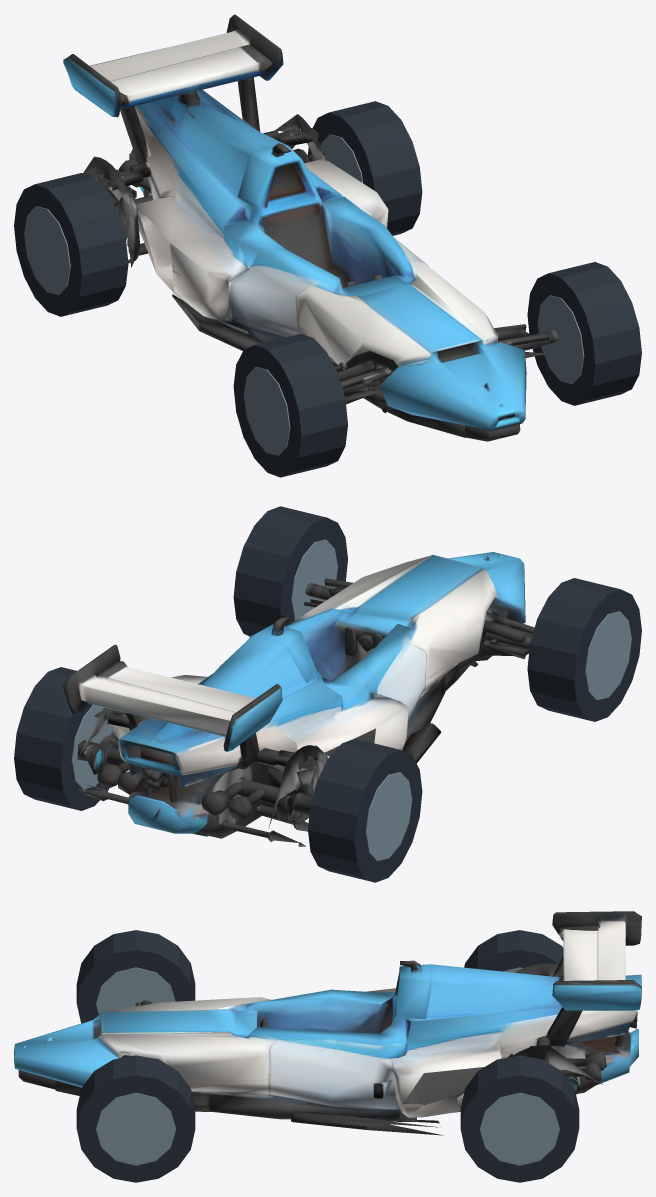
File: car-low.glb
The picture shows the model from 3 angles, top to bottom: view 1: azimuth 30°, elevation 25°; view 2: azimuth 150°, elevation 25°; view 3: azimuth 270°, elevation 25°; orthographic projection. The views are drawn at different scales.
Parts seen in each view (by area): view 1: Car_Body, Wheel_FL, Wheel_RL, Wheel_FR, Wheel_RR; view 2: Car_Body, Wheel_RL, Wheel_FL, Wheel_FR, Wheel_RR; view 3: Car_Body, Wheel_FR, Wheel_RR, Wheel_FL, Wheel_RL.
Boxes of the visible parts, x1=… form: Car_Body: x1=63, y1=14, x2=557, y2=441; Wheel_FL: x1=233, y1=333, x2=347, y2=477; Wheel_RL: x1=14, y1=173, x2=128, y2=316; Wheel_FR: x1=527, y1=262, x2=641, y2=405; Wheel_RR: x1=308, y1=101, x2=422, y2=235; Car_Body: x1=62, y1=552, x2=534, y2=846; Wheel_RL: x1=308, y1=738, x2=422, y2=882; Wheel_FL: x1=527, y1=578, x2=641, y2=721; Wheel_FR: x1=233, y1=506, x2=347, y2=636; Wheel_RR: x1=14, y1=667, x2=113, y2=810; Car_Body: x1=14, y1=911, x2=641, y2=1135; Wheel_FR: x1=76, y1=1055, x2=195, y2=1182; Wheel_RR: x1=460, y1=1055, x2=579, y2=1182; Wheel_FL: x1=76, y1=930, x2=195, y2=1023; Wheel_RL: x1=464, y1=930, x2=563, y2=972.
Size of the model in its own units: 1.98 by 1.04 by 3.6.
Materials: 3 (1 with a texture image).
